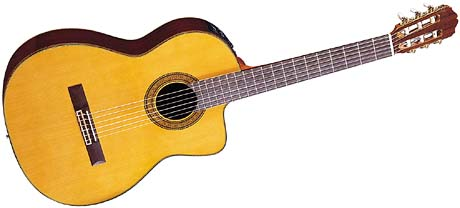guitar: (2, 3, 458, 207)
